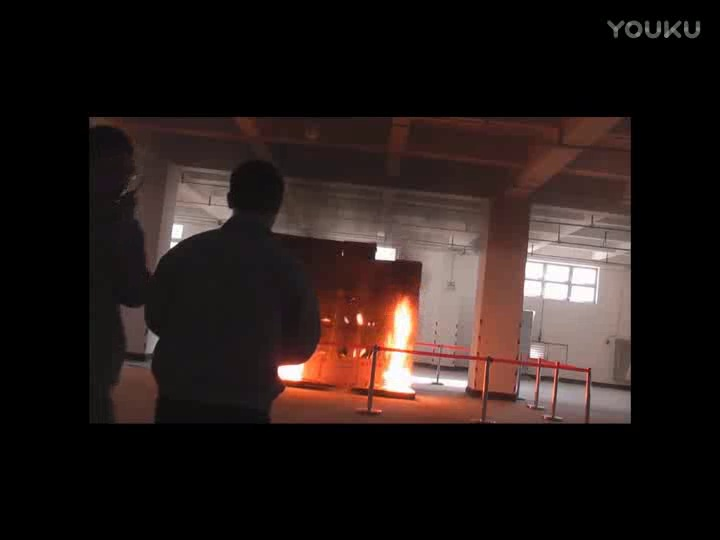fire: (385, 293, 415, 393), (276, 357, 314, 386)
